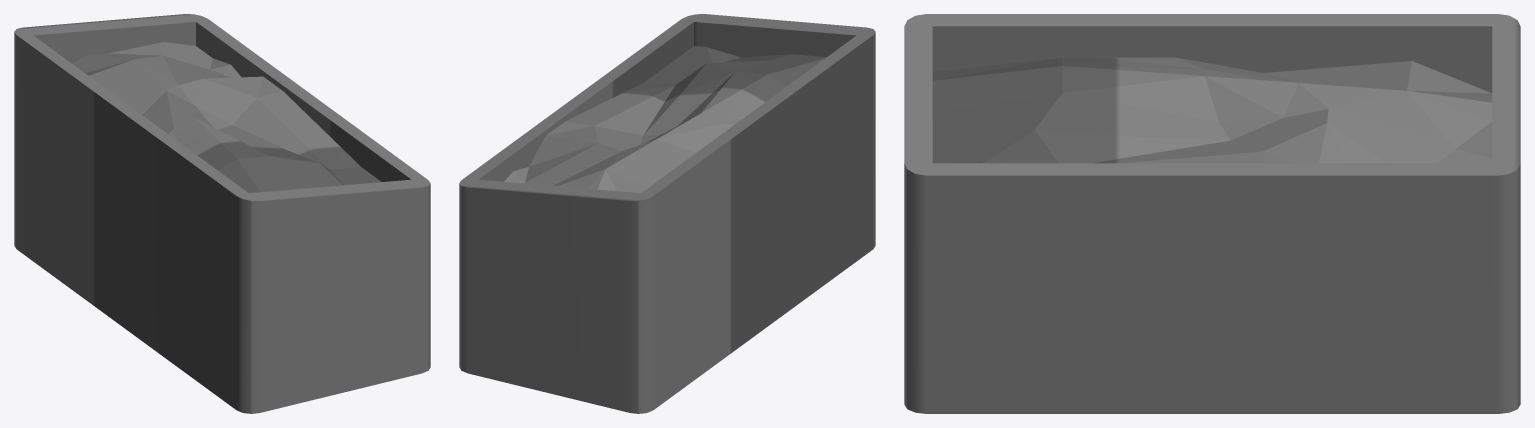
Rendered from SM_bac_charbon.fbx.
The picture shows the model from 3 angles, left to right: view 1: azimuth 30°, elevation 25°; view 2: azimuth 150°, elevation 25°; view 3: azimuth 270°, elevation 25°; orthographic projection. The views are drawn at different scales.
Parts seen in each view (by area): view 1: SM_bac_charbon; view 2: SM_bac_charbon; view 3: SM_bac_charbon.
Boxes of the visible parts, bbox=[...] form: SM_bac_charbon: bbox=[14, 14, 430, 413]; SM_bac_charbon: bbox=[459, 14, 875, 413]; SM_bac_charbon: bbox=[904, 14, 1520, 413].
Size of the model in its own units: 0.6634 by 0.7081 by 1.42.
1 material, 1 textured.
